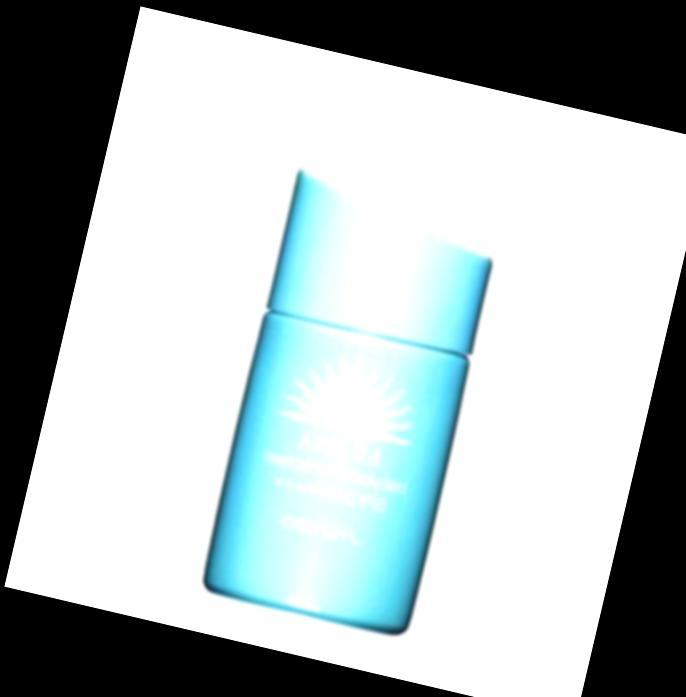cosmetic: (194, 162, 506, 639)
